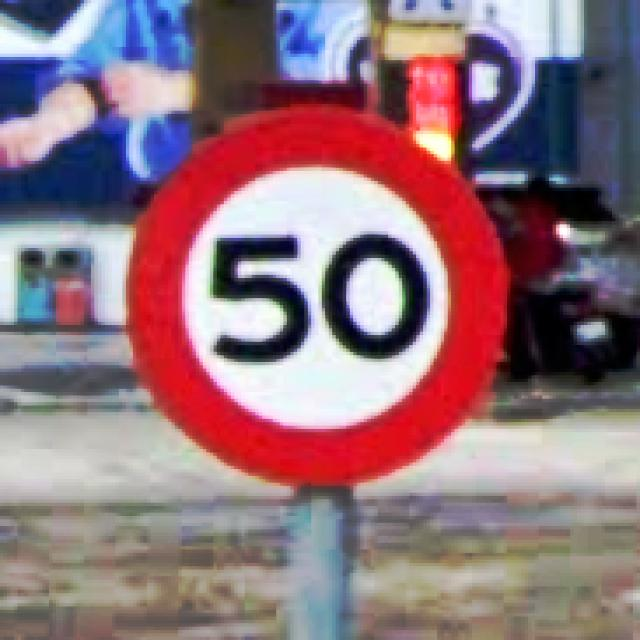max50: (123, 101, 514, 489)
